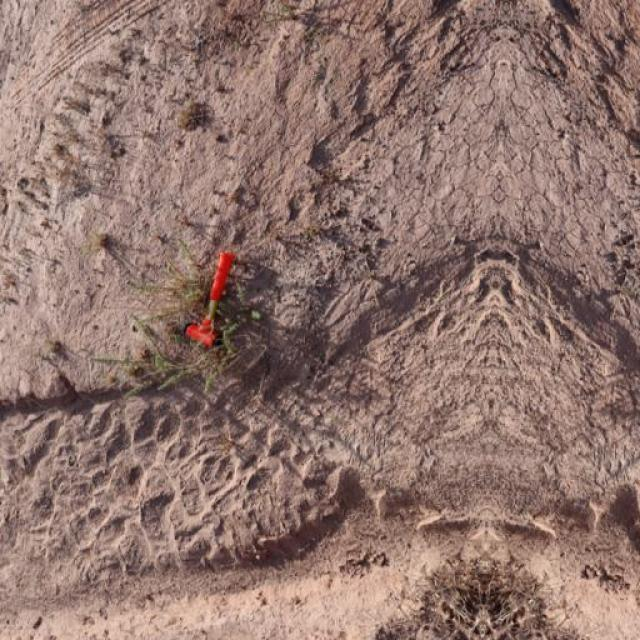mallet: (182, 249, 236, 349)
